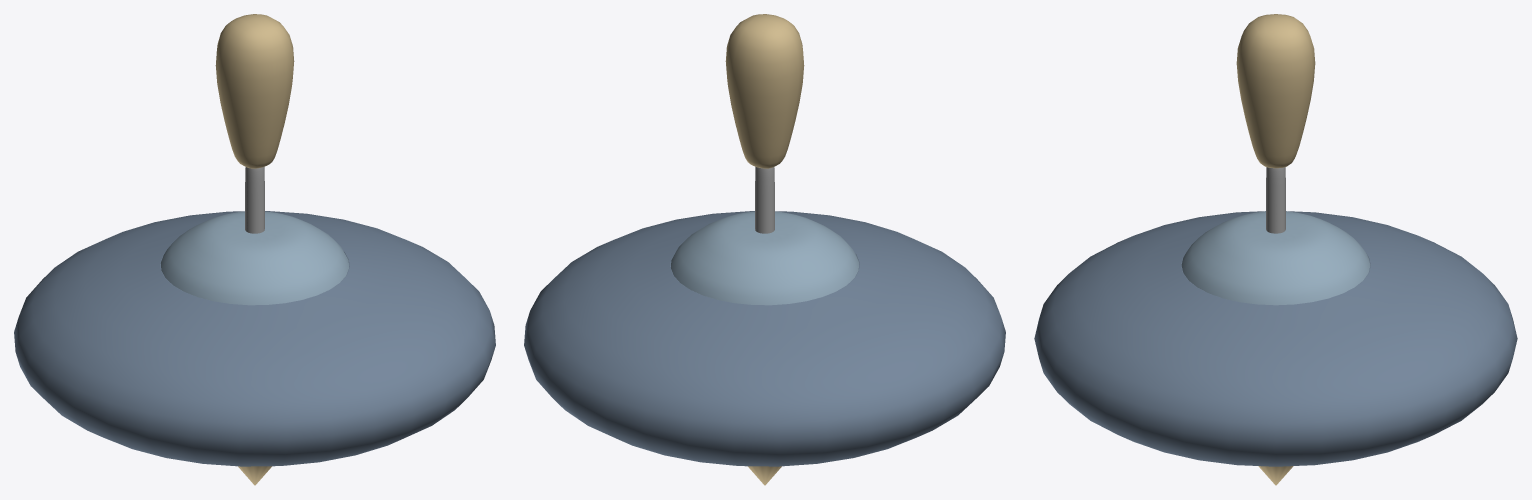
Rendered from Peonza.fbx.
3 views of the same model, side by side, from view 1: azimuth 30°, elevation 25°; view 2: azimuth 150°, elevation 25°; view 3: azimuth 270°, elevation 25° (orthographic).
Parts seen in each view (by area): view 1: PEONZA; view 2: PEONZA; view 3: PEONZA.
Boxes of the visible parts, x1=… form: PEONZA: x1=14, y1=14, x2=495, y2=485; PEONZA: x1=524, y1=14, x2=1005, y2=485; PEONZA: x1=1034, y1=14, x2=1517, y2=485.
Bounding box in the file's own units: 0.0626 × 0.0626 × 0.0668.
